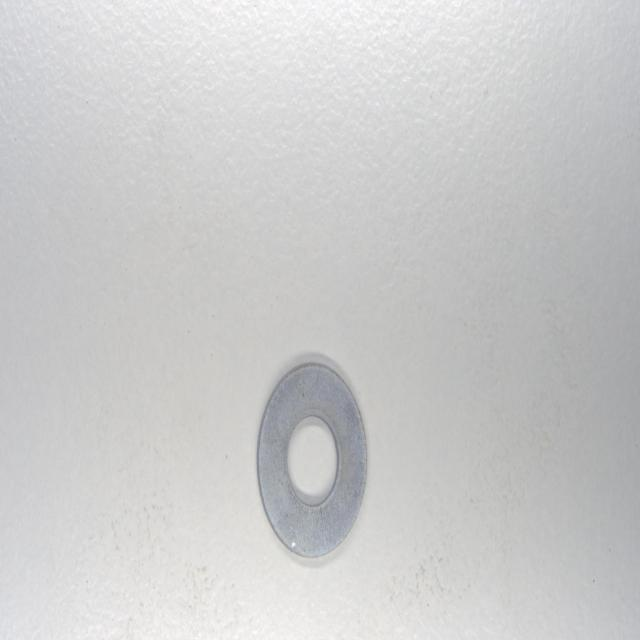washer: (254, 355, 370, 567)
